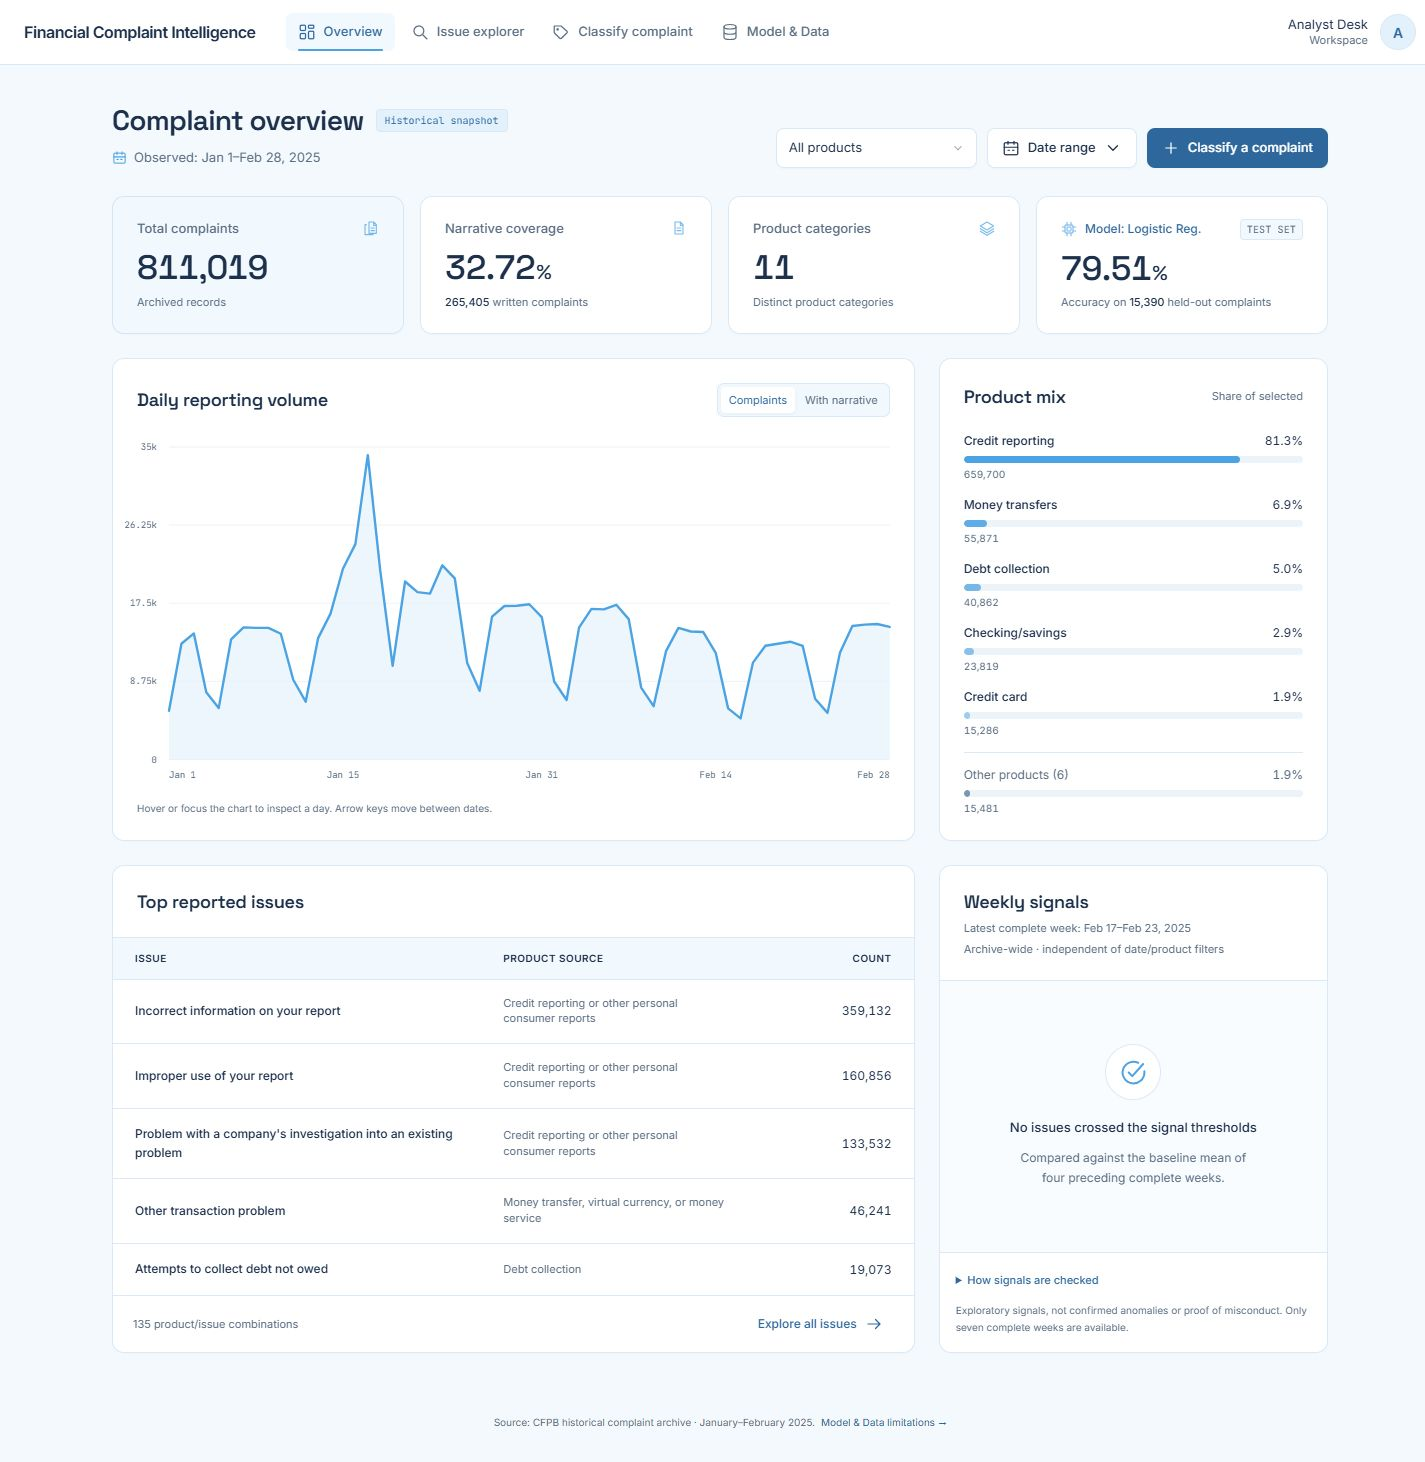

The page's visual inventory and layout, read from the dashboard file:
{"tool":"powerbi","page":{"name":"Overview","canvas":[1600,1050],"ordinal":0},"visuals":[{"type":"textbox","box":[26,16,800,48],"z":1},{"type":"textbox","box":[28,66,770,29],"z":2},{"type":"pageNavigator","box":[844,30,724,54],"z":3},{"type":"textbox","box":[26,110,650,45],"z":4},{"type":"textbox","box":[28,160,630,36],"z":5},{"type":"textbox","box":[28,1016,1510,28],"z":6},{"type":"slicer","fields":{"Values":["Products.Product Short"]},"box":[870,108,334,88],"z":7},{"type":"slicer","fields":{"Values":["Calendar.Date"]},"box":[1220,108,348,88],"z":8},{"type":"card","title":"Archived complaints","fields":{"Values":["Complaints.Total Complaints"]},"box":[32,218,360,124],"z":9},{"type":"card","title":"Written narratives","fields":{"Values":["Complaints.Written Complaints"]},"box":[424,218,360,124],"z":10},{"type":"card","title":"Narrative coverage","fields":{"Values":["Complaints.Narrative Coverage"]},"box":[816,218,360,124],"z":11},{"type":"card","title":"Model test accuracy","fields":{"Values":["Model.Test Accuracy"]},"box":[1208,218,360,124],"z":12},{"type":"lineChart","title":"Daily complaint reporting","fields":{"Category":["Calendar.Date"],"Y":["Complaints.Total Complaints","Complaints.Written Complaints"]},"box":[32,370,966,300],"z":13},{"type":"barChart","title":"Complaints by product","fields":{"Category":["Products.Product Short"],"Y":["Complaints.Total Complaints"]},"box":[1026,370,542,300],"z":14},{"type":"tableEx","title":"Reported issues · select a row to explore","fields":{"Values":["Products.Product Short","Issues.Issue","Complaints.Total Complaints","Complaints.Narrative Coverage"]},"box":[32,700,966,290],"z":15},{"type":"barChart","title":"Narrative coverage by product","fields":{"Category":["Products.Product Short"],"Y":["Complaints.Narrative Coverage"]},"box":[1026,700,542,290],"z":16}]}

Visuals, with their boxes on the page's 1600x1050 design canvas (x1, y1, x2, y2). These are canvas units, not pixel positions in the 1425x1462 screenshot, which may show the page scaled, cropped or inside an application window:
textbox: {"x1": 26, "y1": 16, "x2": 826, "y2": 64}
textbox: {"x1": 28, "y1": 66, "x2": 798, "y2": 95}
pageNavigator: {"x1": 844, "y1": 30, "x2": 1568, "y2": 84}
textbox: {"x1": 26, "y1": 110, "x2": 676, "y2": 155}
textbox: {"x1": 28, "y1": 160, "x2": 658, "y2": 196}
textbox: {"x1": 28, "y1": 1016, "x2": 1538, "y2": 1044}
slicer - Products.Product Short: {"x1": 870, "y1": 108, "x2": 1204, "y2": 196}
slicer - Calendar.Date: {"x1": 1220, "y1": 108, "x2": 1568, "y2": 196}
"Archived complaints" card: {"x1": 32, "y1": 218, "x2": 392, "y2": 342}
"Written narratives" card: {"x1": 424, "y1": 218, "x2": 784, "y2": 342}
"Narrative coverage" card: {"x1": 816, "y1": 218, "x2": 1176, "y2": 342}
"Model test accuracy" card: {"x1": 1208, "y1": 218, "x2": 1568, "y2": 342}
"Daily complaint reporting" lineChart: {"x1": 32, "y1": 370, "x2": 998, "y2": 670}
"Complaints by product" barChart: {"x1": 1026, "y1": 370, "x2": 1568, "y2": 670}
"Reported issues · select a row to explore" tableEx: {"x1": 32, "y1": 700, "x2": 998, "y2": 990}
"Narrative coverage by product" barChart: {"x1": 1026, "y1": 700, "x2": 1568, "y2": 990}
